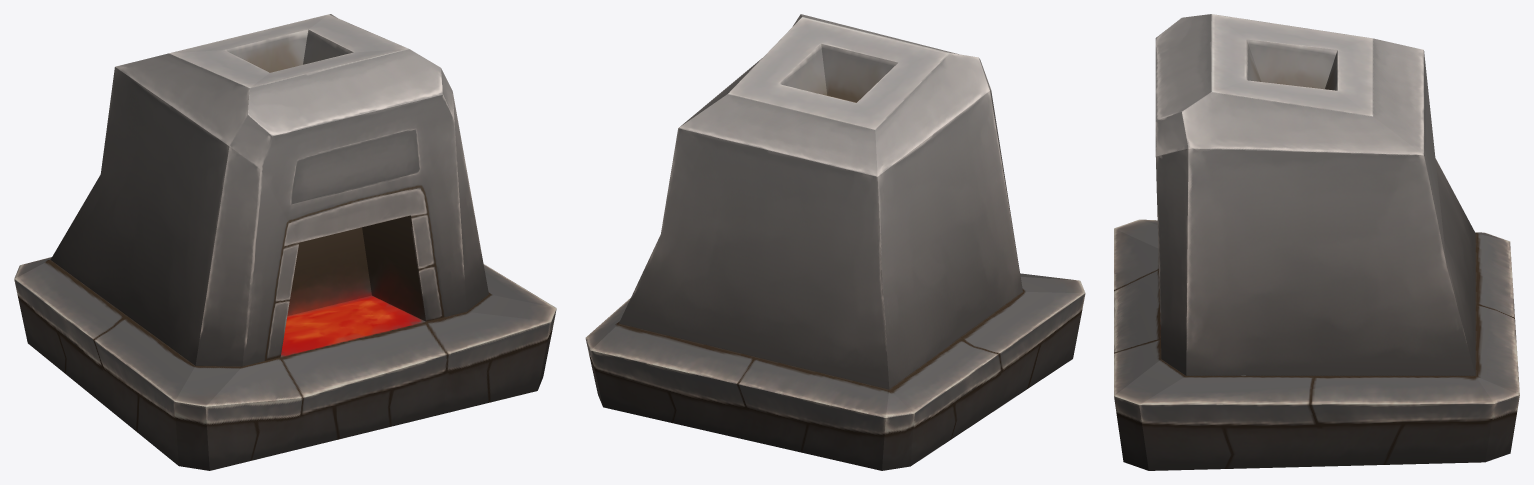
The model's file is Dwarf_Village_Props_11.FBX.
3 renders of one model, left to right at view 1: azimuth 30°, elevation 25°; view 2: azimuth 150°, elevation 25°; view 3: azimuth 270°, elevation 25°, orthographic. The views are drawn at different scales.
Visible parts, largest first — view 1: Dwarf_Village_Props_11; view 2: Dwarf_Village_Props_11; view 3: Dwarf_Village_Props_11.
Part boxes in pixels (x1,y1,x2,y2): Dwarf_Village_Props_11: (14,14,556,470); Dwarf_Village_Props_11: (585,14,1085,470); Dwarf_Village_Props_11: (1114,14,1519,470).
Bounding box in the file's own units: 404 × 333 × 372.
